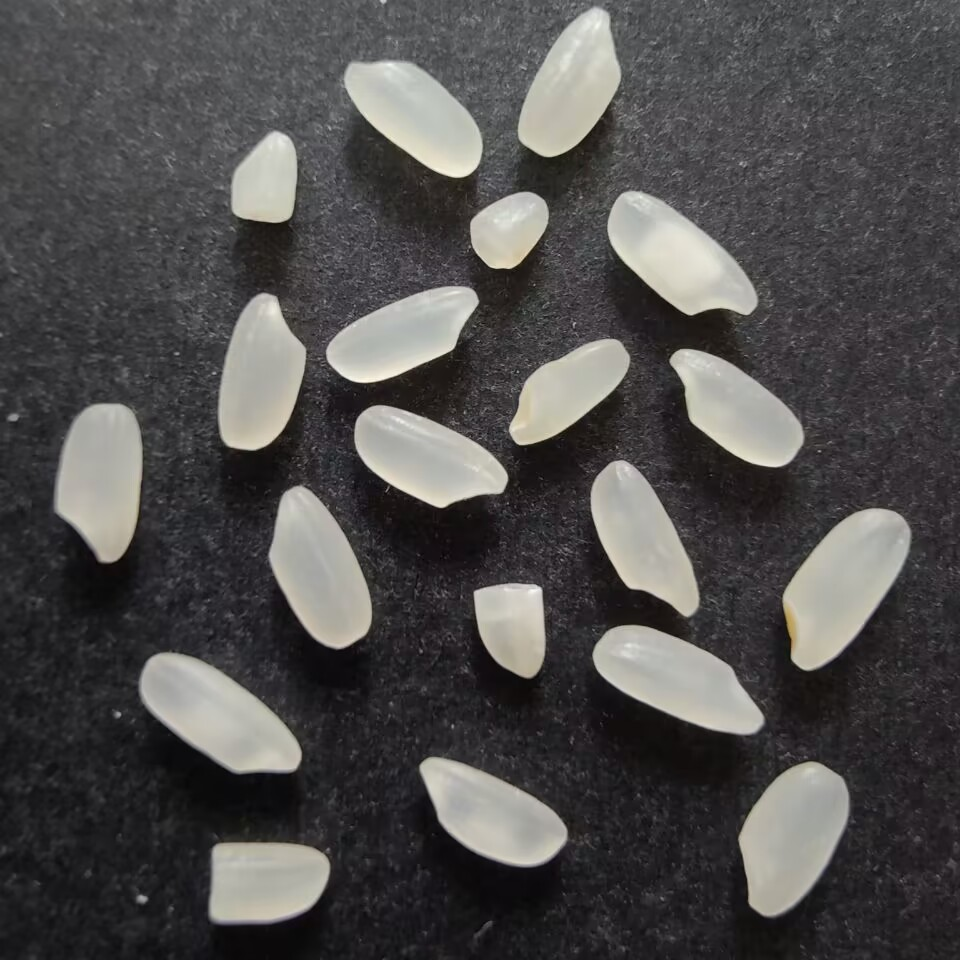broken: (202, 838, 332, 932), (467, 580, 551, 681), (227, 125, 299, 227), (467, 189, 552, 274)
rice: (780, 504, 915, 676), (603, 187, 763, 325), (136, 650, 301, 777), (587, 622, 766, 737), (265, 481, 376, 652), (585, 459, 702, 620), (414, 754, 572, 870), (340, 58, 487, 181), (738, 760, 851, 920), (350, 401, 512, 511), (513, 3, 626, 160), (665, 348, 807, 468), (324, 280, 478, 386), (213, 290, 309, 451), (52, 401, 143, 568), (506, 336, 630, 452)
